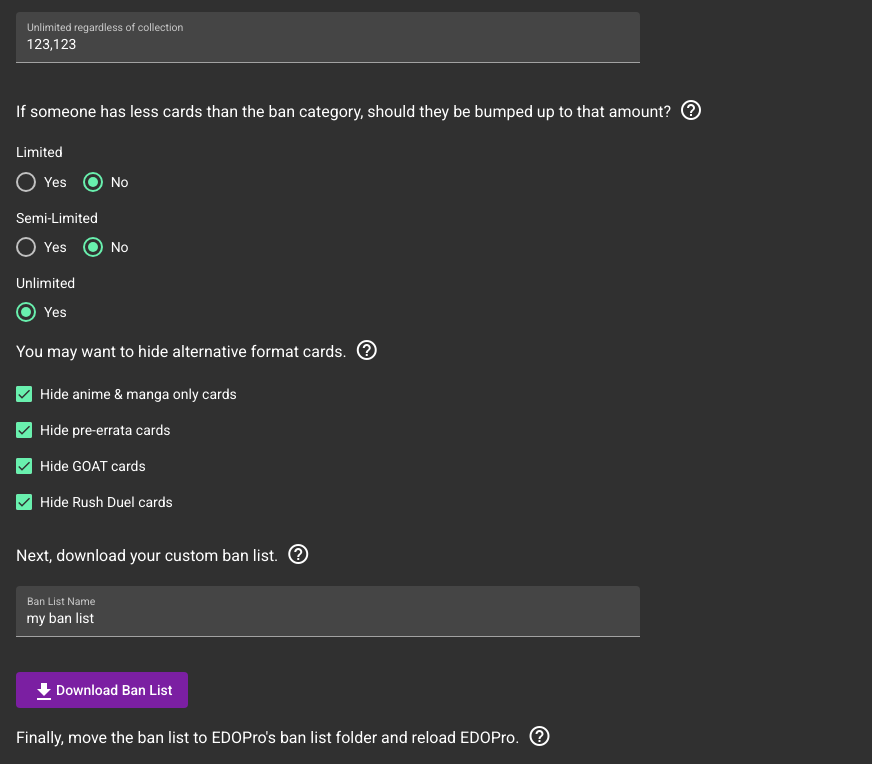
Test: Ban List Creator › should show an error when you download without a collection
(page scrolled)
Click the button with class "download-button" at [102, 690], box [16,672,188,708]
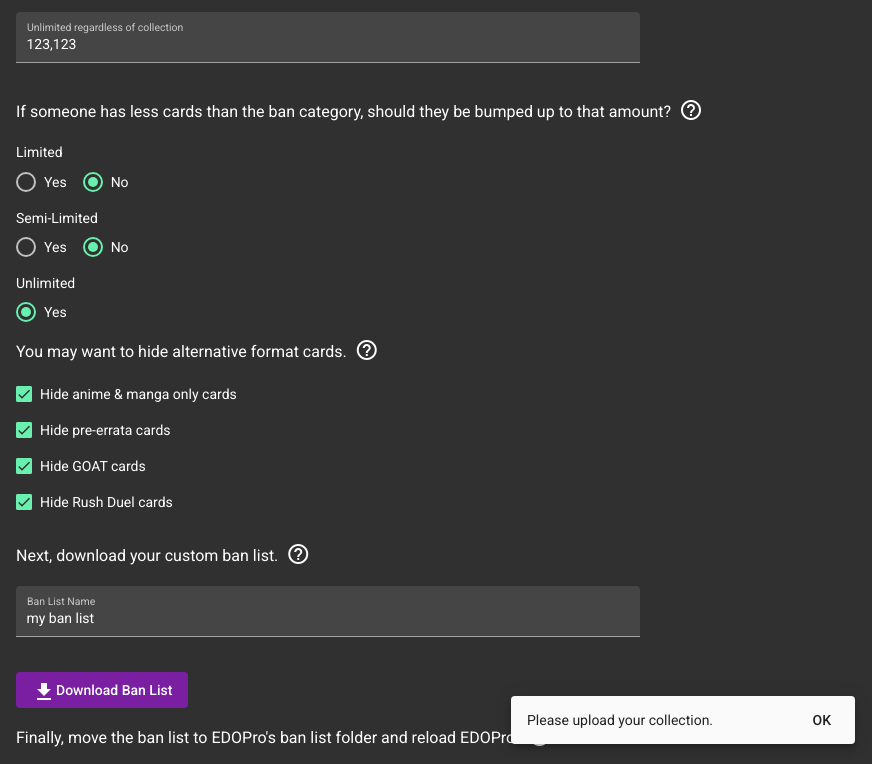
expect the text "Please upload your collection." is shown: met, box [527,710,713,730]
